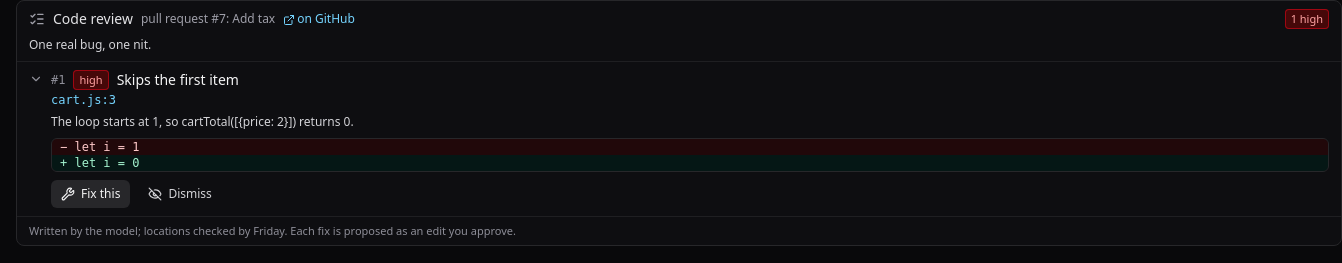
Scenario: review card › asks Friday for exactly the suggested fix, then marks it requested
Click the button "Fix this": {"x": 91, "y": 194} [51,180,130,208]
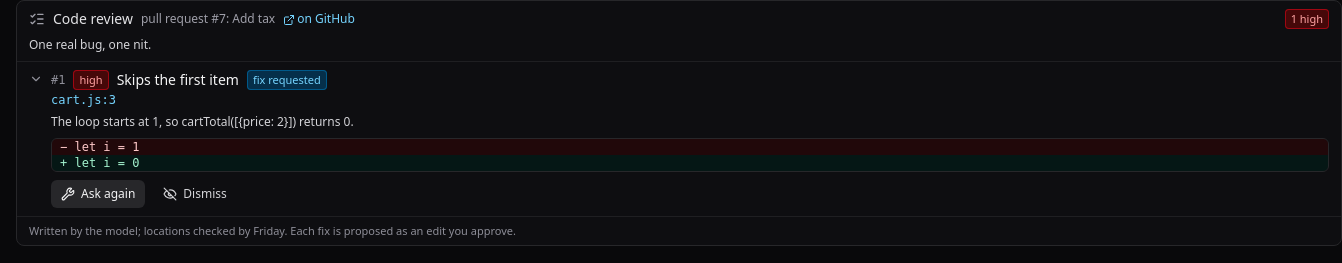
Check: the text "fix requested" is shown, box [247,70,327,90]
